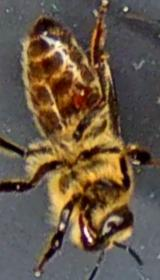varroa_mite: (65, 77, 104, 118)
